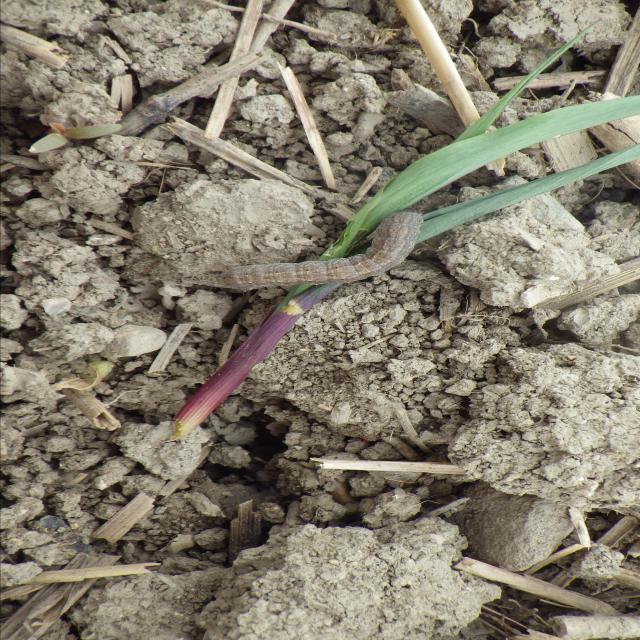black cutworm: (226, 201, 434, 299)
